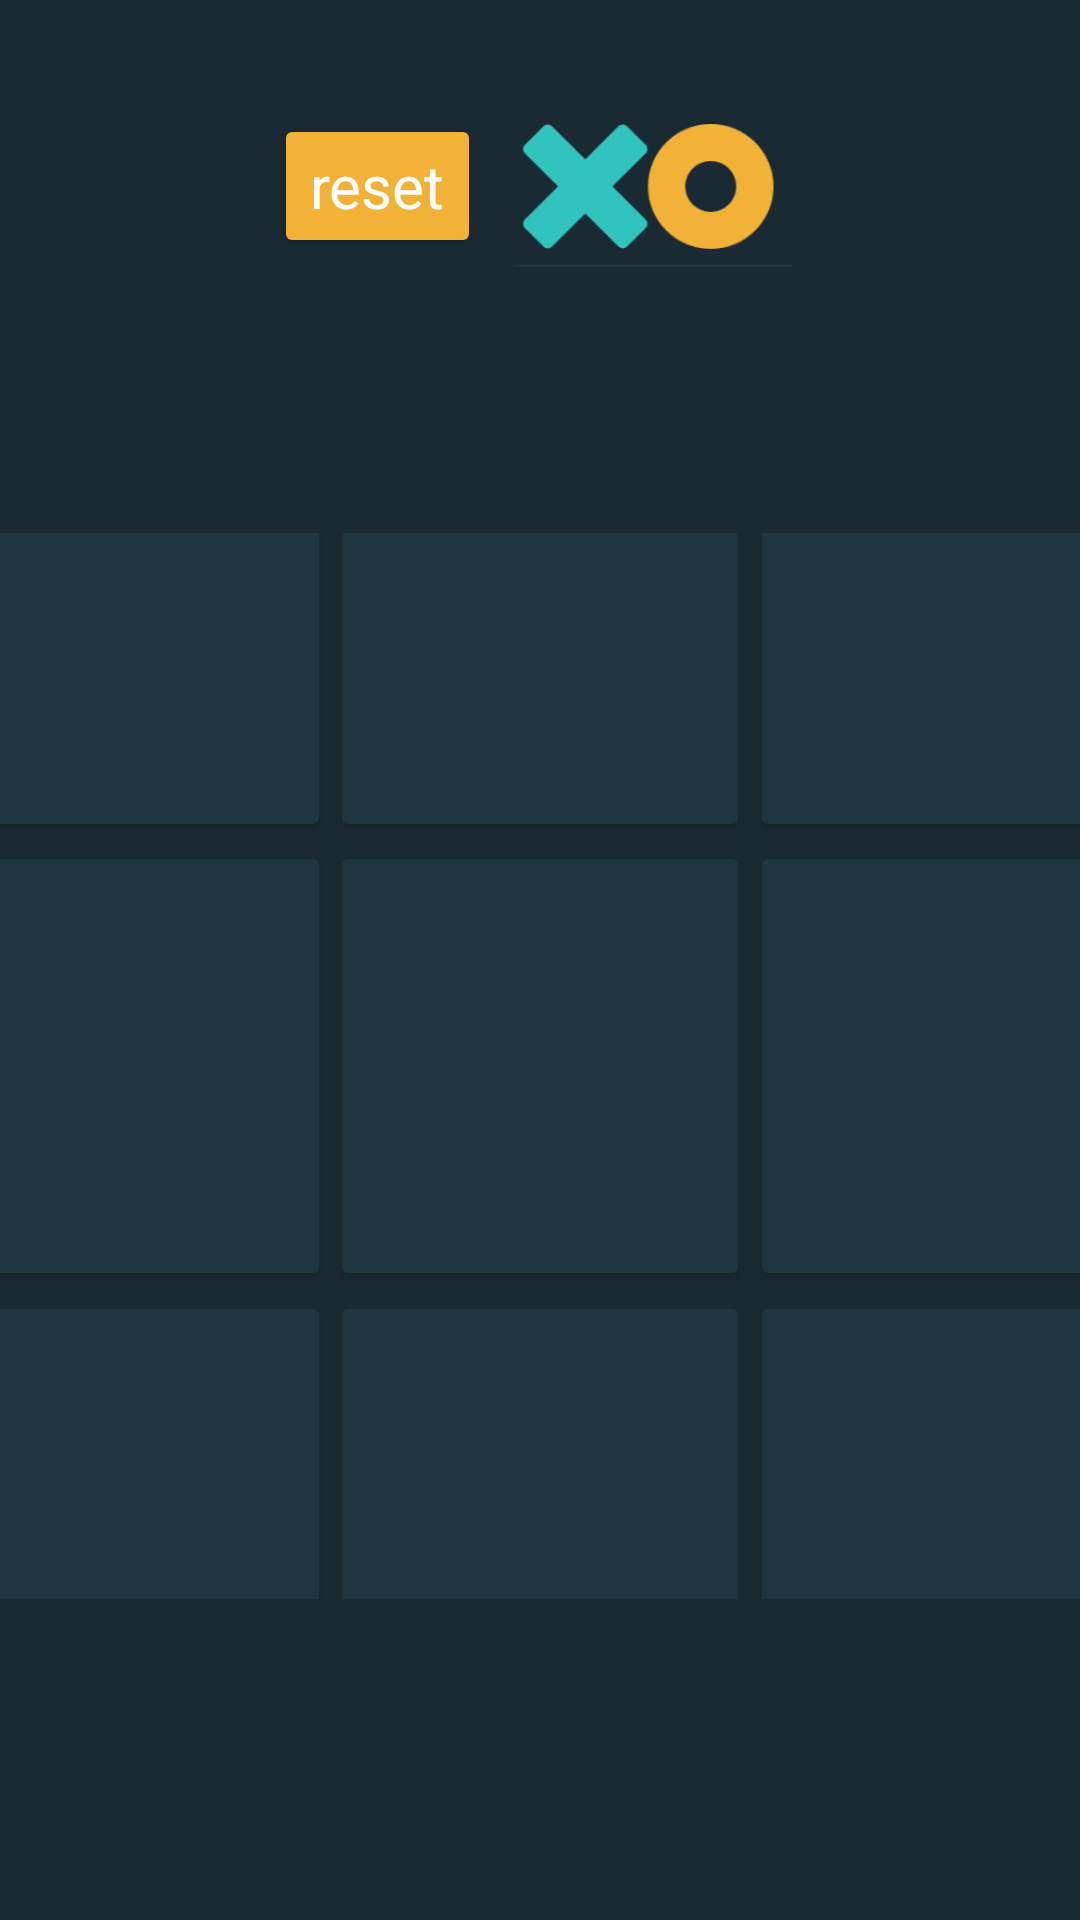

Where icons sit on this 1080 x 1920 app screen, as {"left": x1, "top": y1, "right": x2, "bottom": y2}:
players: {"left": 522, "top": 124, "right": 774, "bottom": 249}
